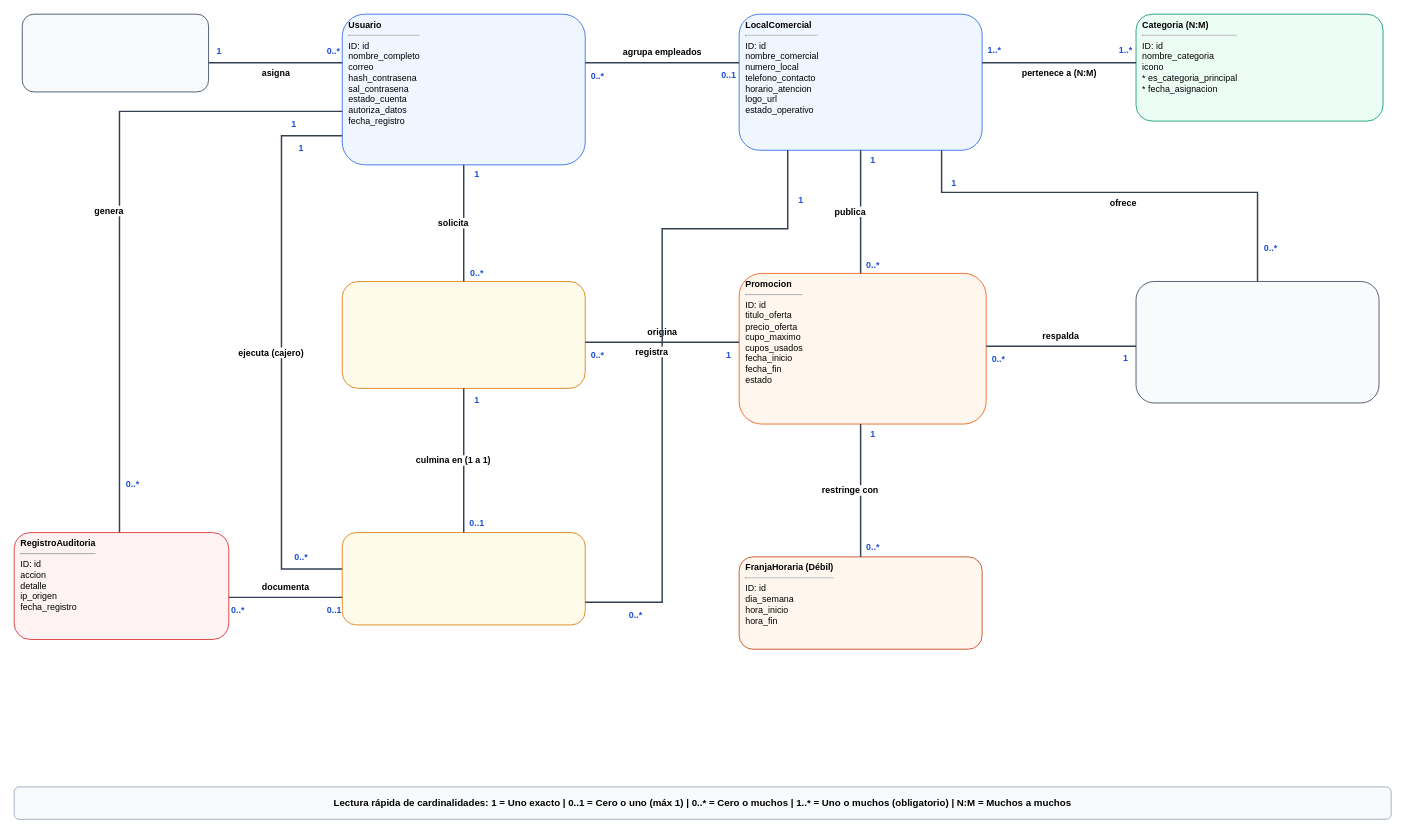
This 1405x833 diagram has some shape labels left out. Here are the shapes that lost their labels. From the top down, the centre of each, then its label:
At [115,52]: "Rol ID: id nombre descripcion".
At [463,334]: "Cupon ID: id codigo_unico fecha_emision fecha_expiracion estado".
At [1257,342]: "Producto ID: id nombre_producto descripcion precio_regular foto_url disponible".
At [463,578]: "Redencion ID: id fecha_hora_canje monto_descontado metodo_validacion".
